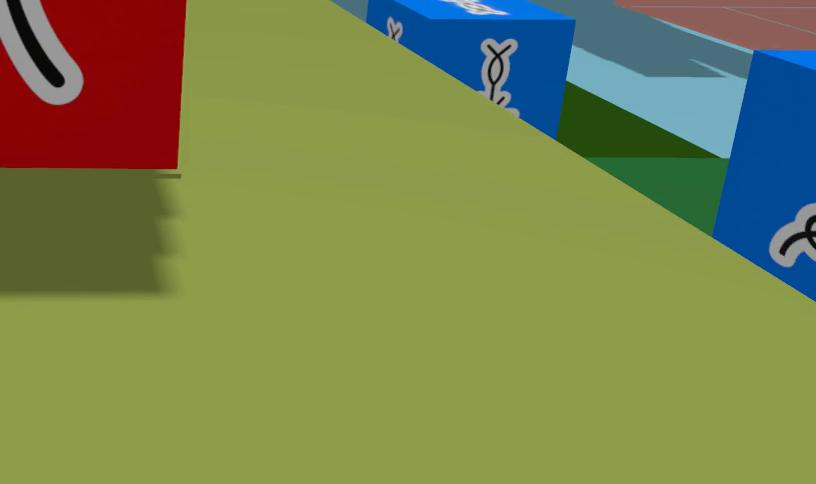KFS_FAKE: (0, 0, 185, 168), (0, 0, 82, 105)
KFS_REAL: (366, 0, 575, 137), (713, 50, 815, 298), (480, 38, 518, 116)
